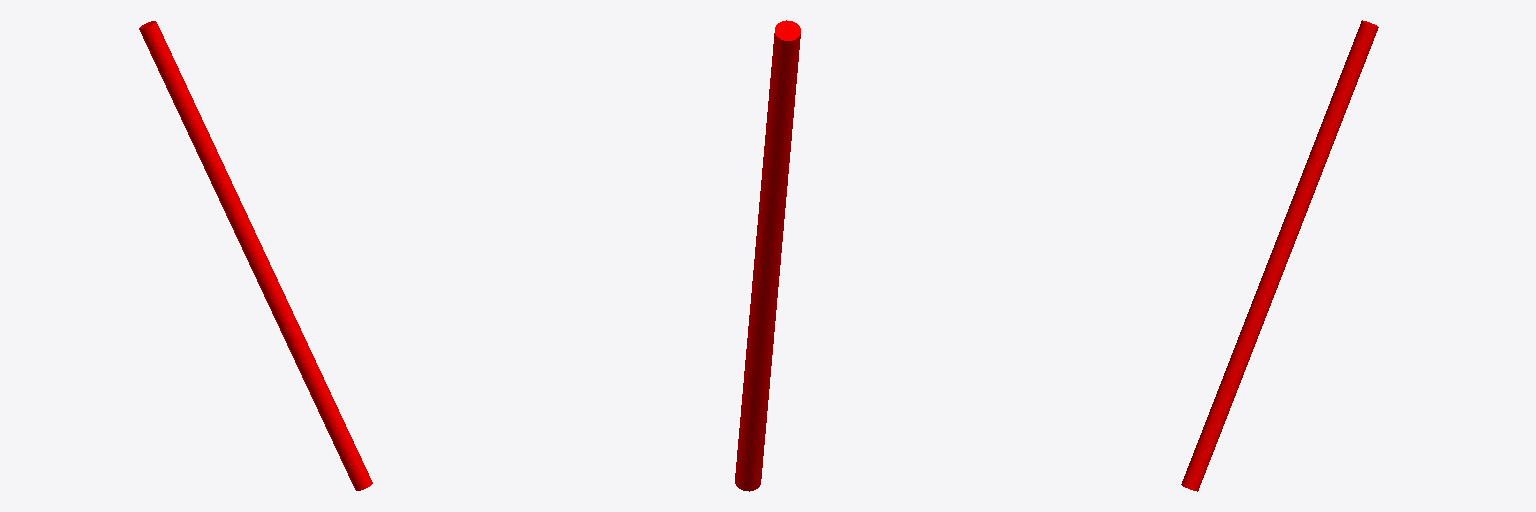
robot.urdf — tree_55.urdf:
<?xml version='1.0' encoding='utf-8'?>
<robot name="tree_55.urdf">
  <link name="branch_0">
    <inertial>
      <origin xyz="0.0 0.0 0.0" rpy="0.0 -0.0 0.0" />
      <mass value="1.0" />
      <inertia ixx="1.0" ixy="0.0" ixz="0.0" iyy="1.0" iyz="0.0" izz="1.0" />
    </inertial>
    <visual name="branch_0_visual">
      <geometry>
        <cylinder radius="0.06790462046276473" length="3.7305911737722743" />
      </geometry>
      <material name="semantic_material" />
      <origin xyz="-0.505644622352416 0.6706138974785997 1.6655113757796858" rpy="5.551115123125783e-17 0.46706409710801844 2.2168541819172747" />
    </visual>
    <collision name="branch_0_collision">
      <geometry>
        <cylinder radius="0.06790462046276473" length="3.7305911737722743" />
      </geometry>
      <origin xyz="-0.505644622352416 0.6706138974785997 1.6655113757796858" rpy="5.551115123125783e-17 0.46706409710801844 2.2168541819172747" />
    </collision>
  </link>
  <material name="semantic_material">
    <color rgba="1. 0. 0. 1." />
  </material>
</robot>

--- What the picture shows (computed from the rendered views, not written in the file) ---
3 views of the same robot in one strip: view 1: azimuth 30°, elevation 25°; view 2: azimuth 150°, elevation 25°; view 3: azimuth 270°, elevation 25° (orthographic).
Robot: tree_55.urdf — 1 links, 0 joints (none); root link branch_0; default pose: every joint at zero.
Visible links, largest first — view 1: branch_0; view 2: branch_0; view 3: branch_0.
Link boxes in pixels (box(x1,y1,x2,y2)): branch_0: box(139, 21, 372, 490); branch_0: box(735, 20, 800, 491); branch_0: box(1181, 20, 1378, 491).
Size in the robot's own frame: 1.14 by 1.47 by 3.39 metres.
Geometry: primitives only (box / cylinder / sphere), no mesh files.